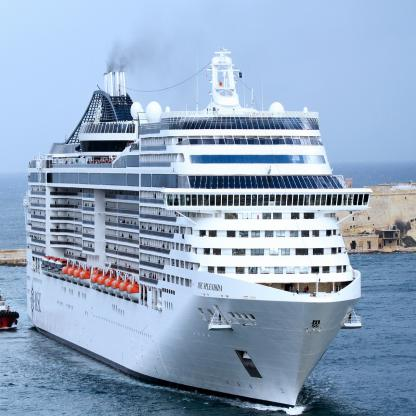Fishing Boat: (0, 296, 20, 330)
